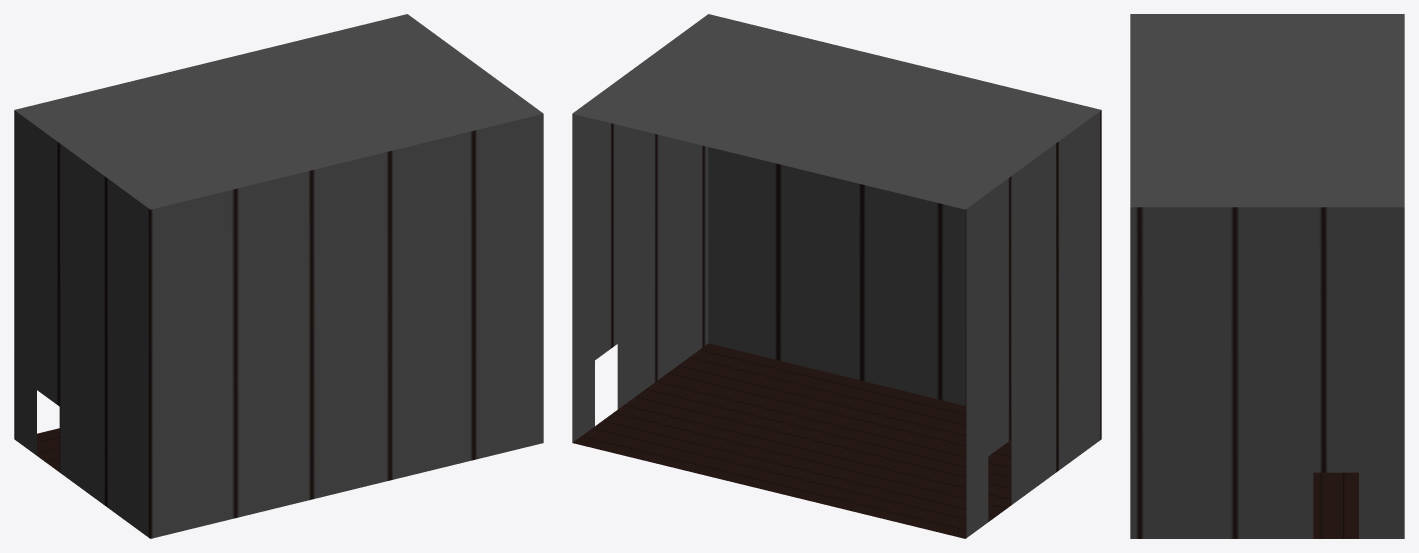
Rendered from BgMD_room_normal (4).fbx.
3 renders of one model, left to right at view 1: azimuth 30°, elevation 25°; view 2: azimuth 150°, elevation 25°; view 3: azimuth 270°, elevation 25°, orthographic.
Parts seen in each view (by area): view 1: Bg_room; view 2: Bg_room; view 3: Bg_room.
Part boxes in pixels (x1,y1,x2,y2): Bg_room: (14, 14, 543, 538); Bg_room: (572, 14, 1101, 538); Bg_room: (1130, 14, 1404, 538).
Bounding box in the file's own units: 1000 × 800 × 600.
Materials: 1 (1 with a texture image).
